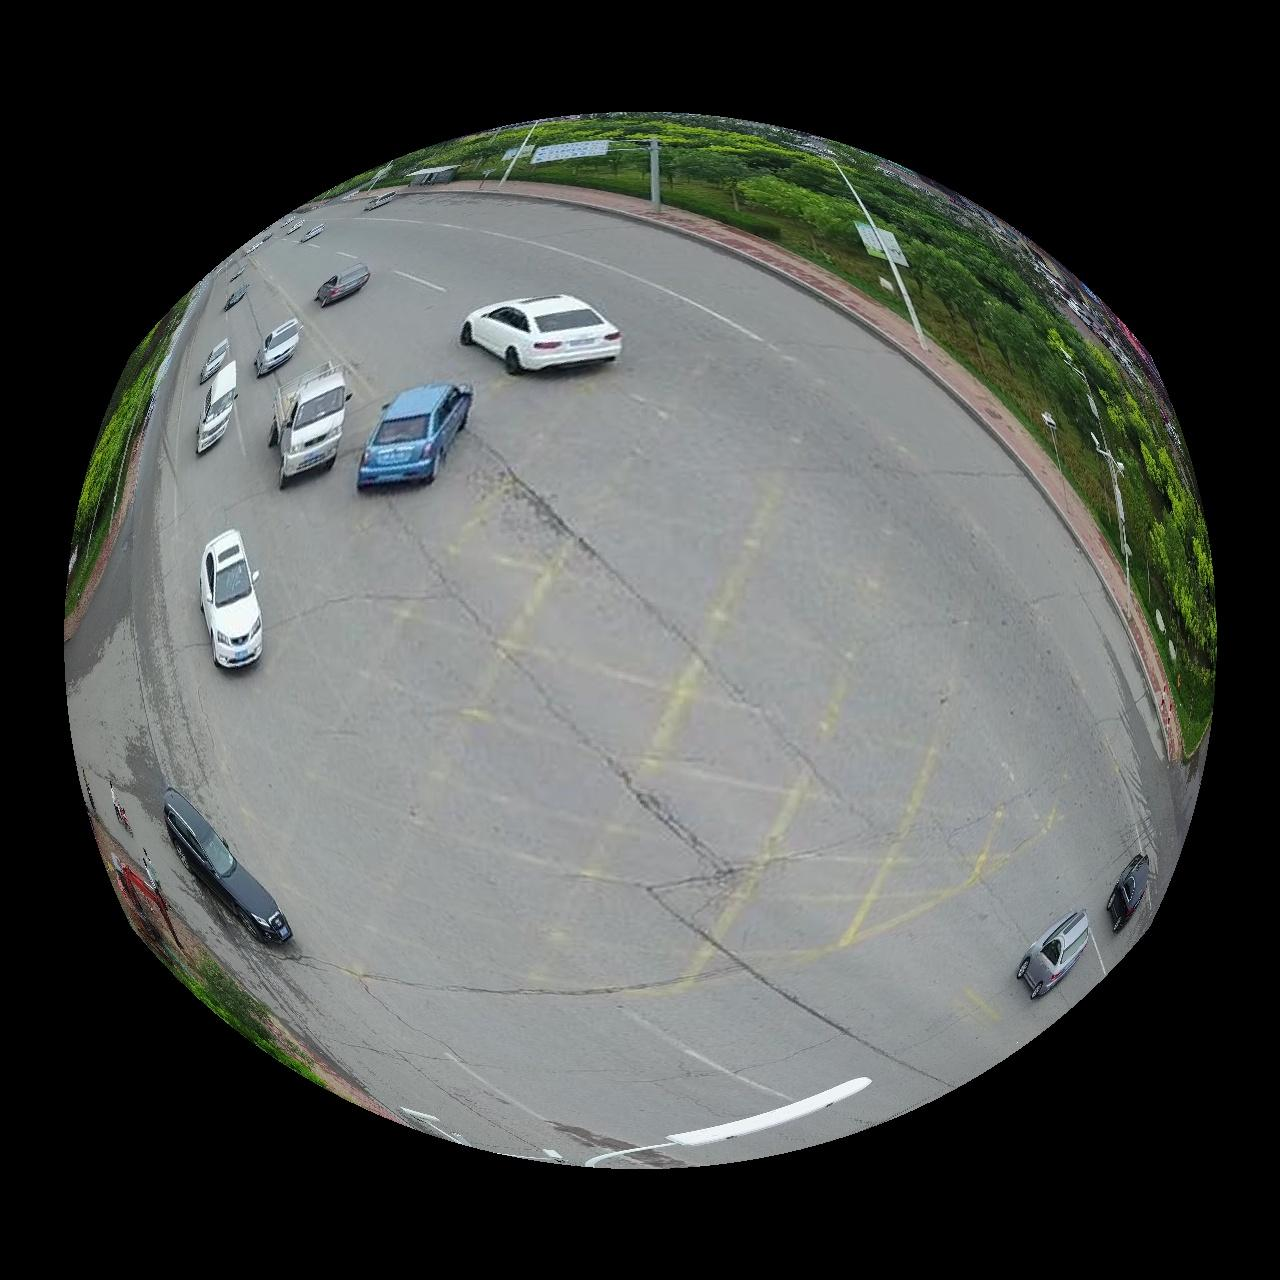cars: (162, 790, 291, 944), (461, 294, 622, 374), (356, 381, 472, 488), (268, 361, 351, 488), (199, 529, 262, 668), (1018, 911, 1093, 1000), (195, 360, 236, 452), (1110, 856, 1153, 934), (253, 317, 301, 376), (314, 262, 370, 306)
trees: (366, 112, 1218, 746)
